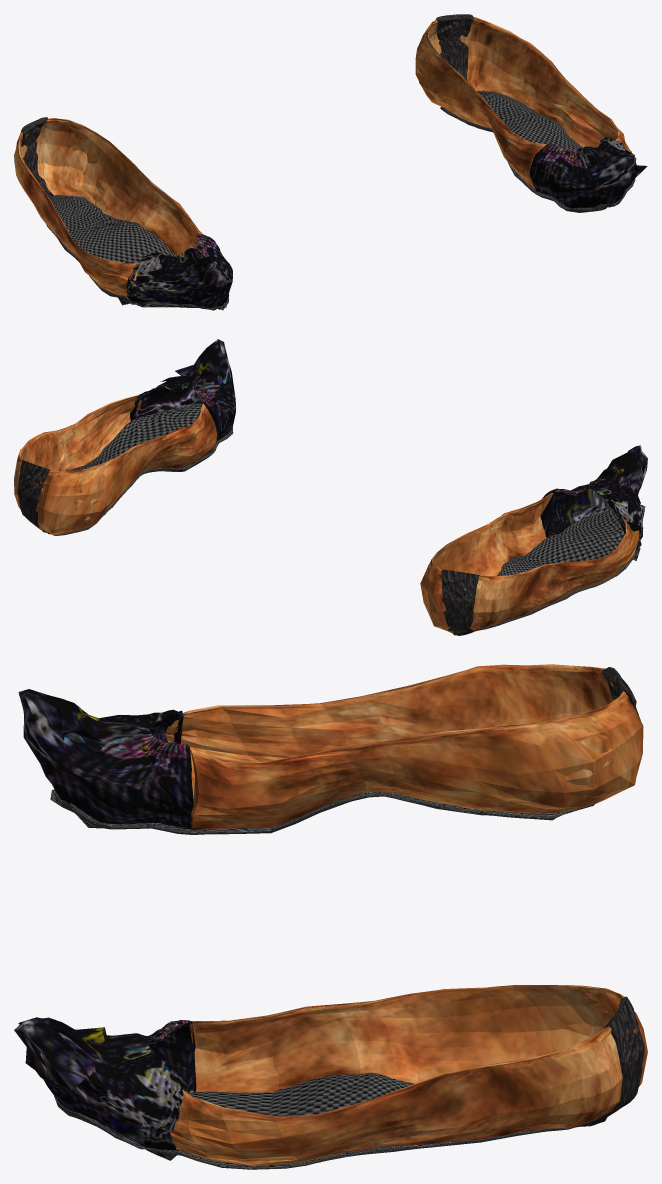
Rendered from mhw_elvs_flatshoe_pointy1.glb.
3 renders of one model, top to bottom at view 1: azimuth 30°, elevation 25°; view 2: azimuth 150°, elevation 25°; view 3: azimuth 270°, elevation 25°, orthographic. The views are drawn at different scales.
Parts seen in each view (by area): view 1: mhw_elvs_flatshoe_pointy1; view 2: mhw_elvs_flatshoe_pointy1; view 3: mhw_elvs_flatshoe_pointy1.
Part boxes in pixels (<box>): mhw_elvs_flatshoe_pointy1: <box>14,14,647,310</box>; mhw_elvs_flatshoe_pointy1: <box>14,339,647,635</box>; mhw_elvs_flatshoe_pointy1: <box>14,664,647,1169</box>.
Bounding box in the file's own units: 0.5383 × 0.0809 × 0.3399.
1 material, 1 textured.
